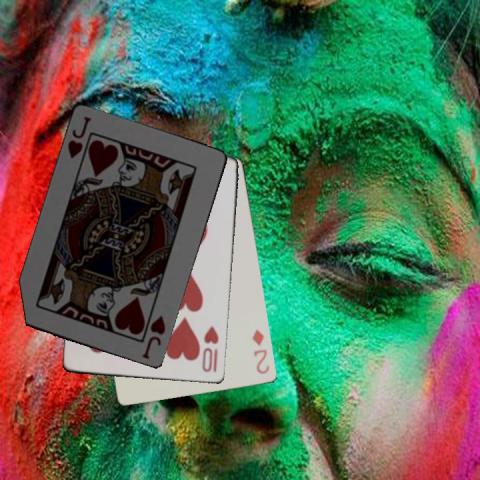10h: (199, 323, 220, 374)
2d: (250, 327, 272, 376)
Jh: (64, 113, 92, 167), (139, 313, 167, 361)
